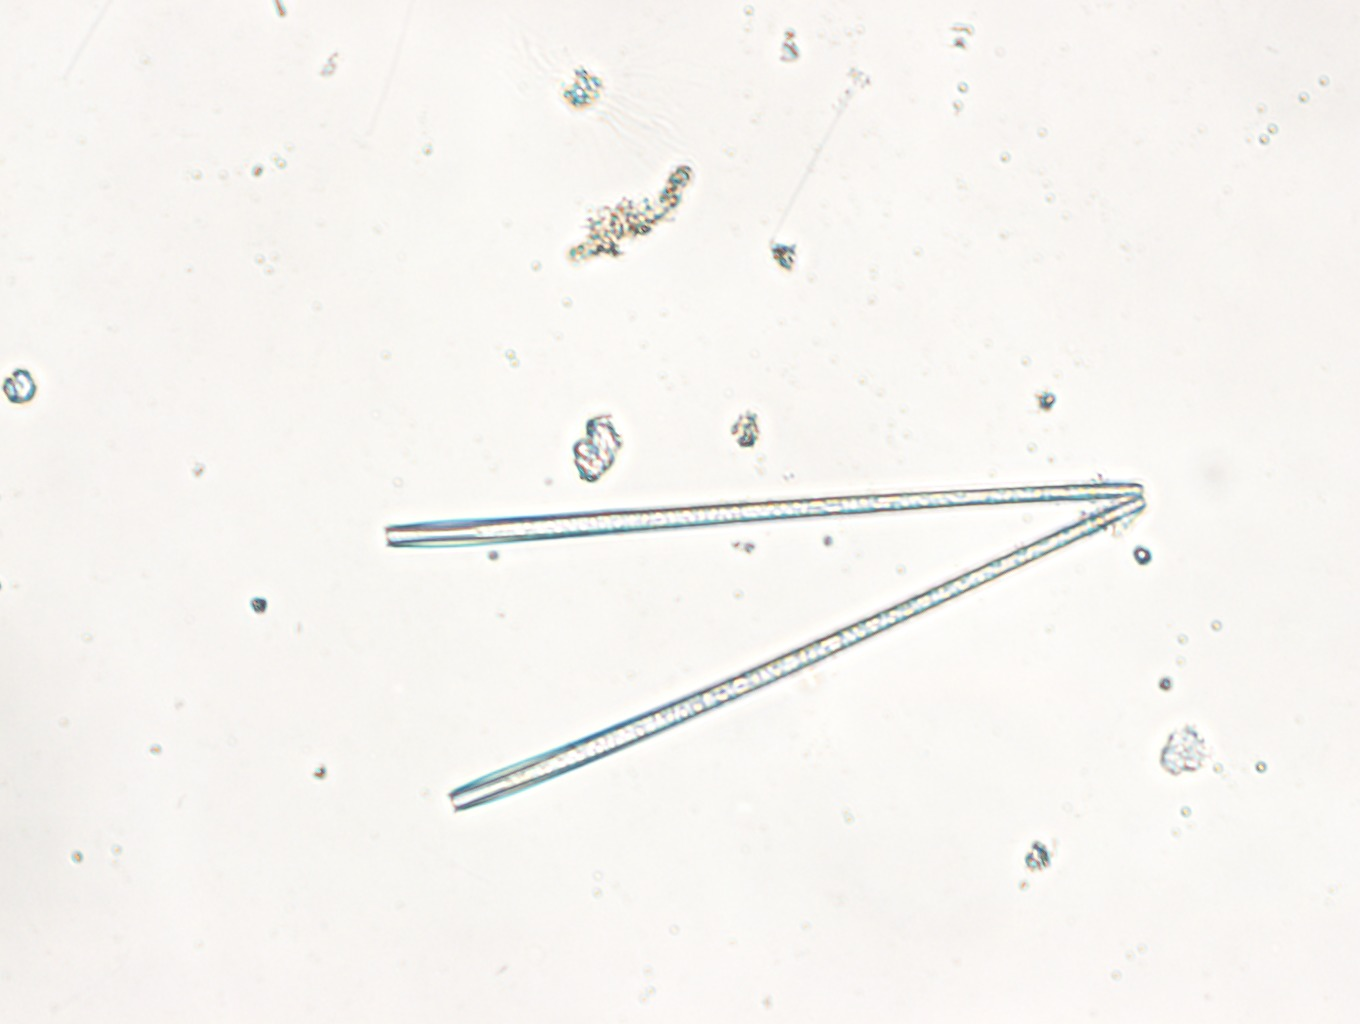thalassionema frauenfeldii: (375, 473, 1148, 815)
